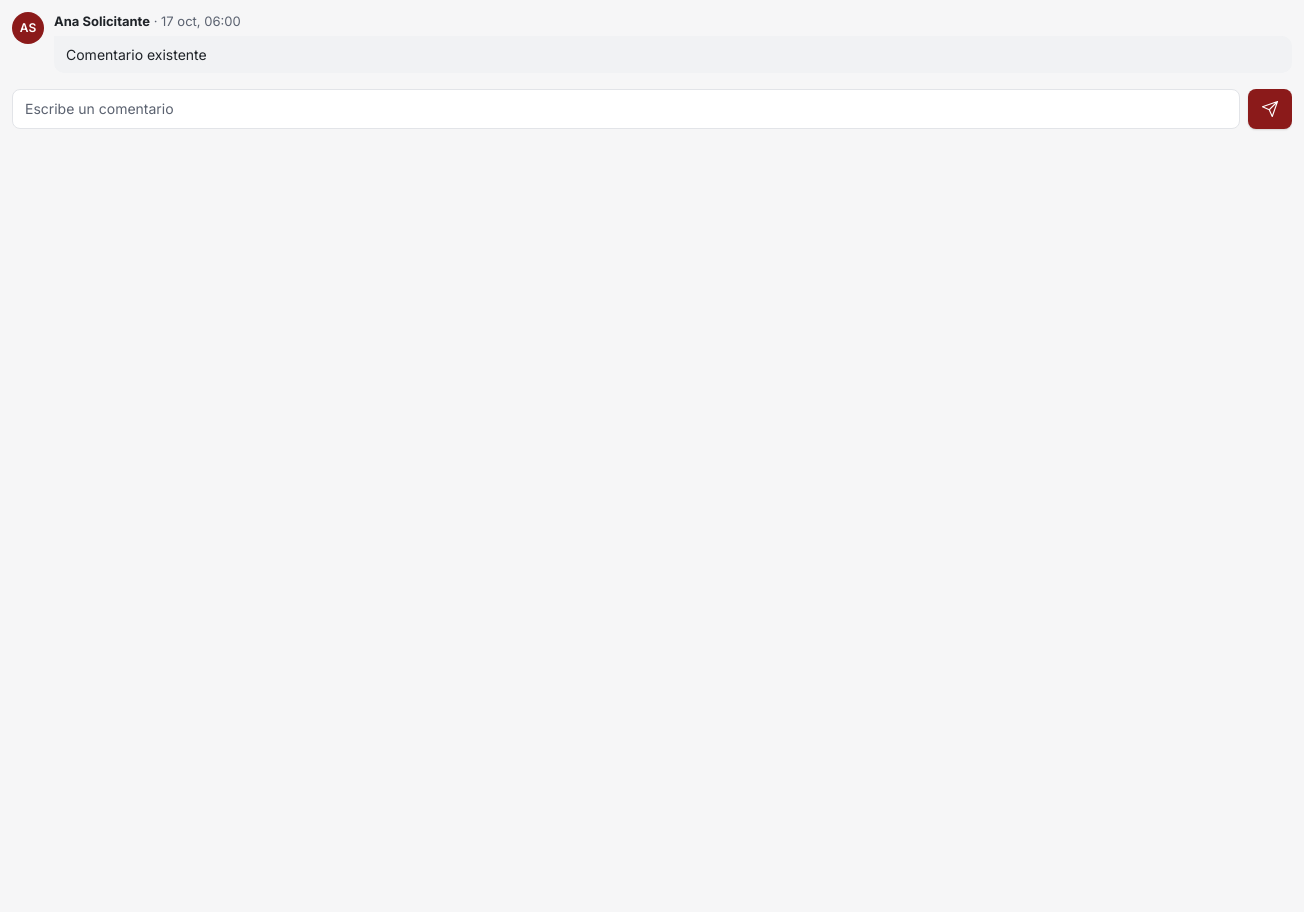
Test: CommentsTab › shows toast when server rejects the comment
Type "Texto rechazado" into the field labelled "Escribe un comentario" at (626,108), box [12, 88, 1240, 128]
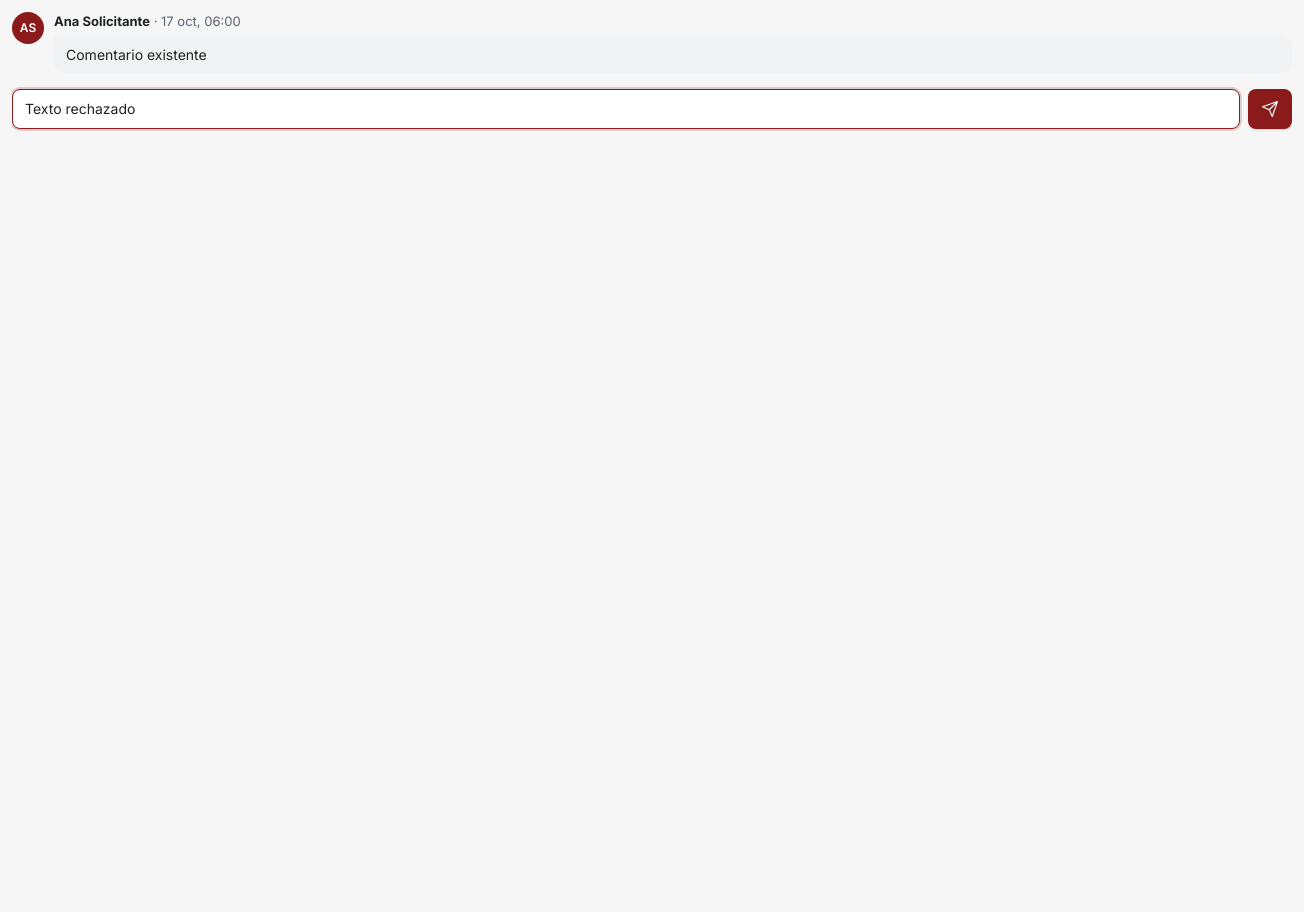
Click the button named "Enviar" at (1270,108), box [1248, 88, 1292, 128]
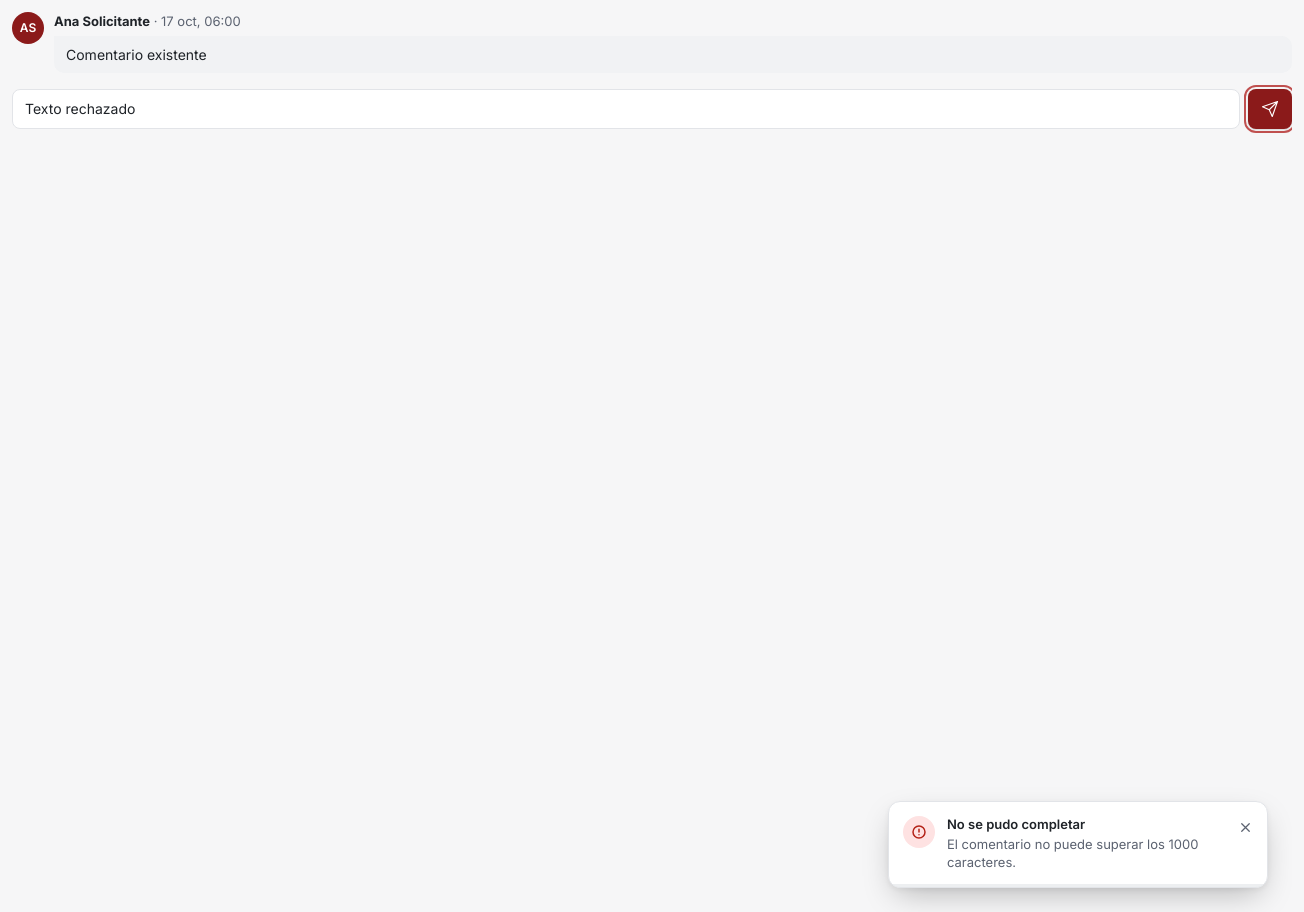
expect the text "El comentario no puede superar los 1000 caracteres." is shown: met, box [947, 836, 1219, 872]
